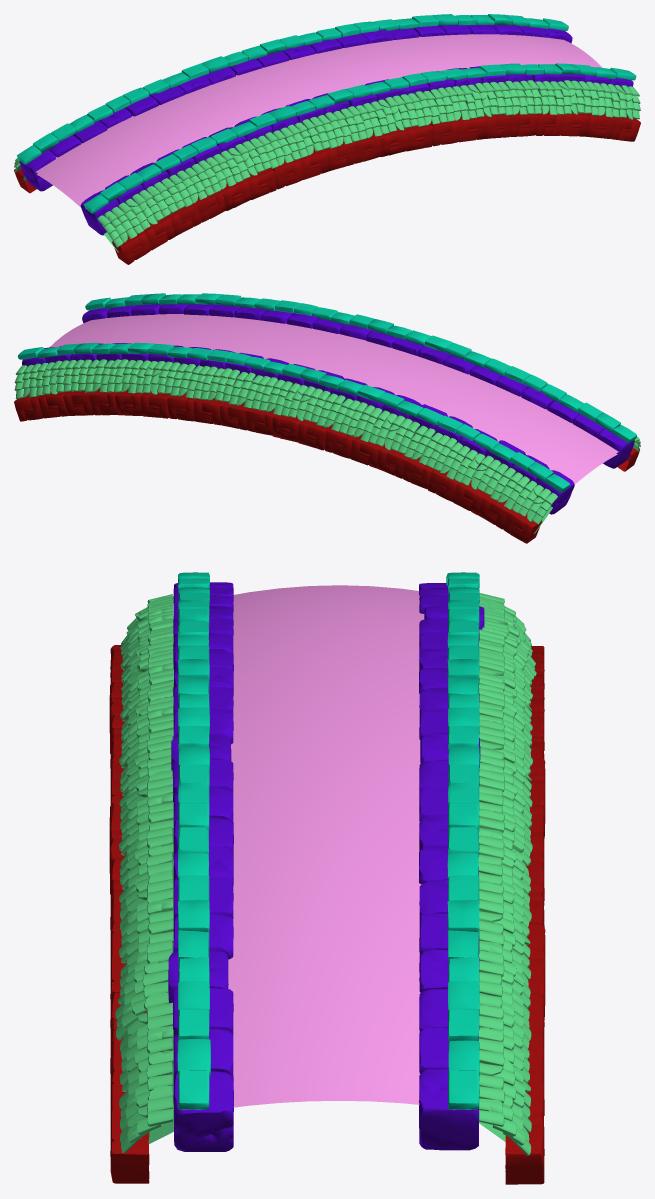
File: bridge01.fbx
3 views of the same model, one above another, from view 1: azimuth 30°, elevation 25°; view 2: azimuth 150°, elevation 25°; view 3: azimuth 270°, elevation 25° (orthographic). The views are drawn at different scales.
Parts seen in each view (by area): view 1: bridge01; view 2: bridge01; view 3: bridge01.
Part boxes in pixels (x1,y1,x2,y2): bridge01: [14, 14, 640, 264]; bridge01: [14, 293, 640, 543]; bridge01: [109, 572, 545, 1184].
Bounding box in the file's own units: 25.78 × 4.56 × 8.92.
